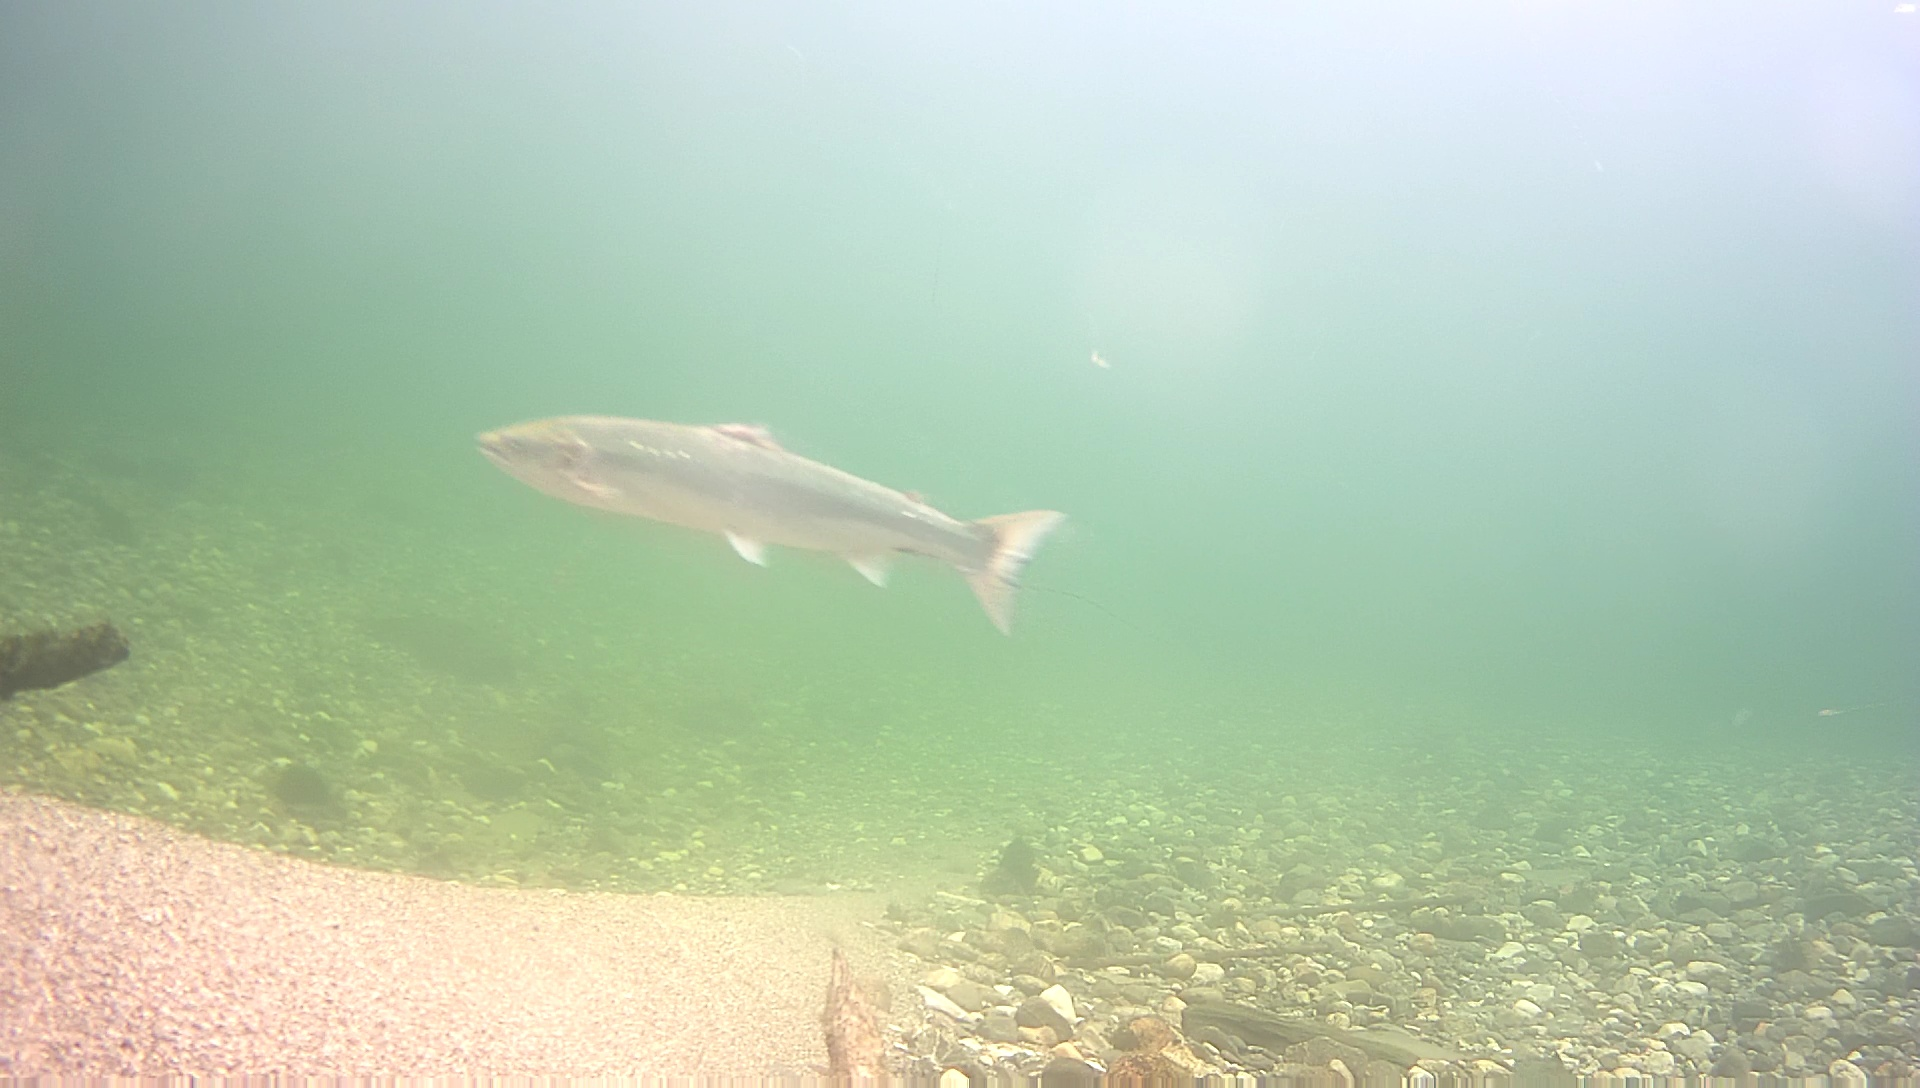salmon: (472, 413, 1071, 637)
